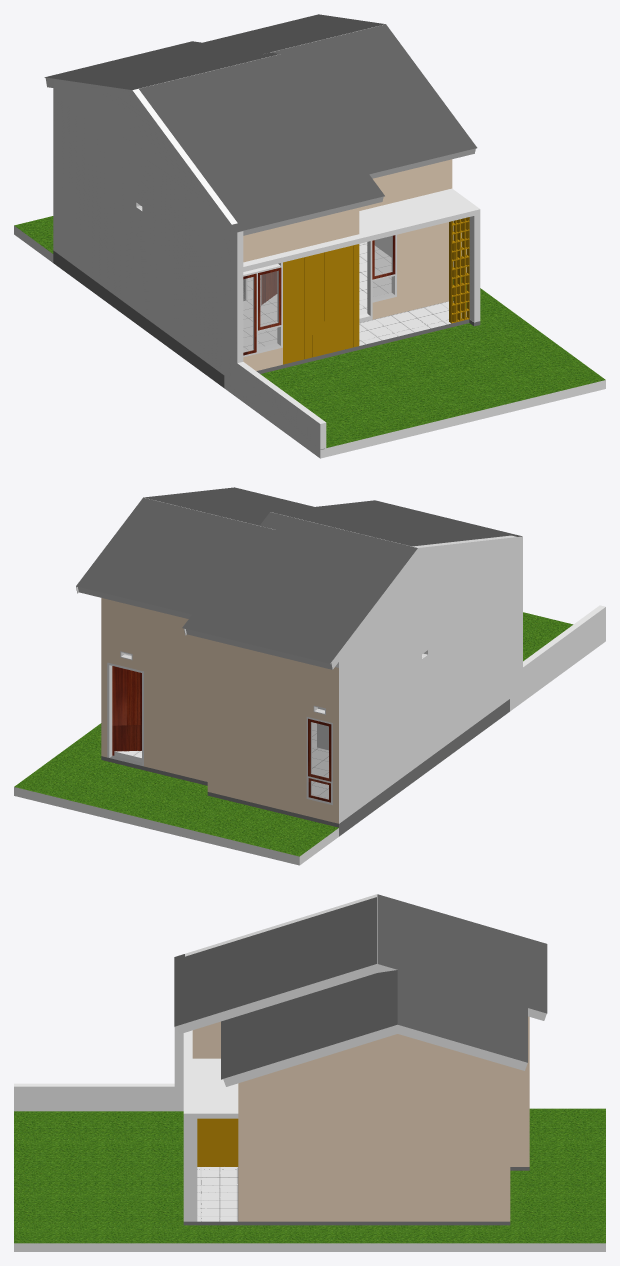
File: rajendra_3d_lite.glb
3 renders of one model, top to bottom at view 1: azimuth 30°, elevation 25°; view 2: azimuth 150°, elevation 25°; view 3: azimuth 270°, elevation 25°, orthographic. The views are drawn at different scales.
Visible parts, largest first — view 1: 43619, 48621, 39739, Root Node, 47422, 47421, 47838, 47423, 43304; view 2: 43619, 48621, 43002, Root Node, 41669, 41209, 35559; view 3: 43619, 48621, Root Node.
Part boxes in pixels (x1=…): 43619: x1=14, y1=95, x2=605, y2=458; 48621: x1=44, y1=14, x2=477, y2=232; 39739: x1=449, y1=217, x2=469, y2=323; Root Node: x1=45, y1=78, x2=475, y2=235; 47422: x1=258, y1=267, x2=281, y2=330; 47421: x1=243, y1=262, x2=282, y2=356; 47838: x1=367, y1=234, x2=396, y2=315; 47423: x1=243, y1=273, x2=256, y2=355; 43304: x1=372, y1=235, x2=395, y2=279; 43619: x1=14, y1=537, x2=605, y2=865; 48621: x1=76, y1=487, x2=522, y2=667; 43002: x1=112, y1=666, x2=141, y2=755; Root Node: x1=76, y1=586, x2=338, y2=669; 41669: x1=308, y1=718, x2=331, y2=781; 41209: x1=306, y1=717, x2=332, y2=805; 35559: x1=107, y1=662, x2=143, y2=766; 43619: x1=14, y1=1016, x2=605, y2=1251; 48621: x1=174, y1=894, x2=547, y2=1079; Root Node: x1=177, y1=964, x2=546, y2=1086.
Bounding box in the file's own units: 7 × 5.41 × 13.
24 materials, 8 textured.
